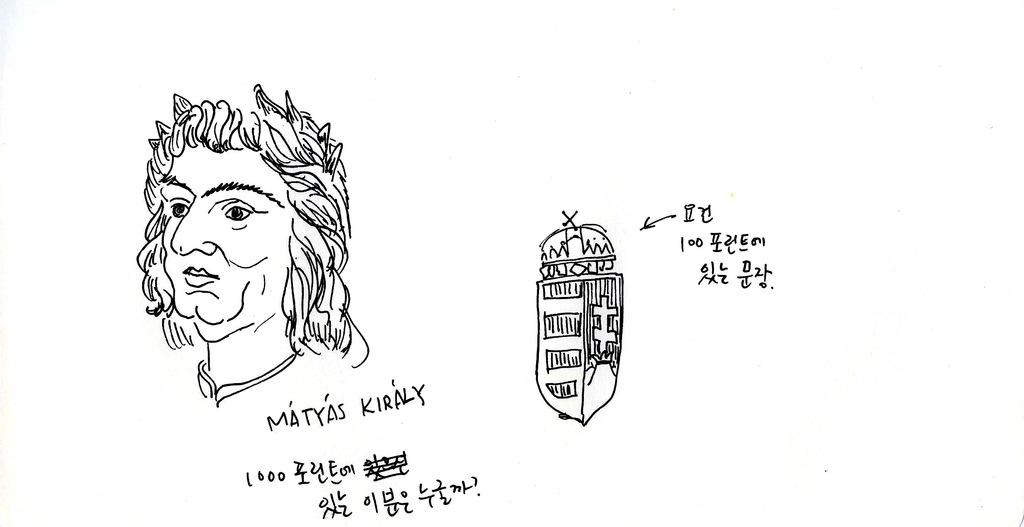Sem Máscara: (154, 130, 283, 342)
